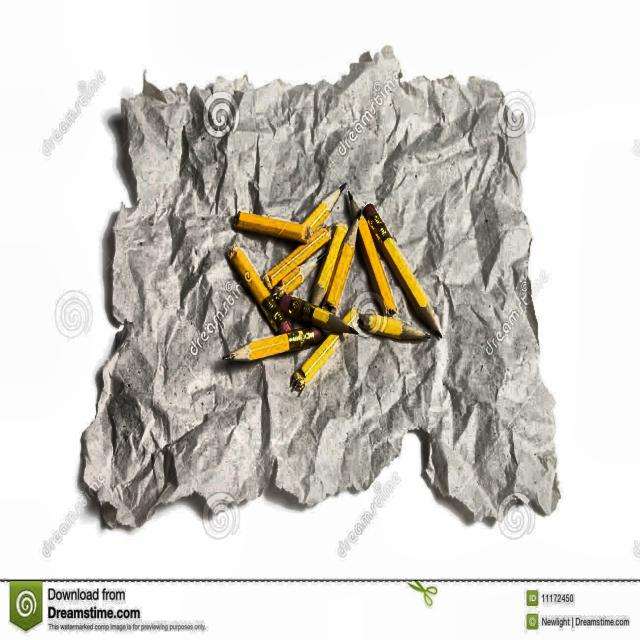Paper: (78, 46, 563, 532)
